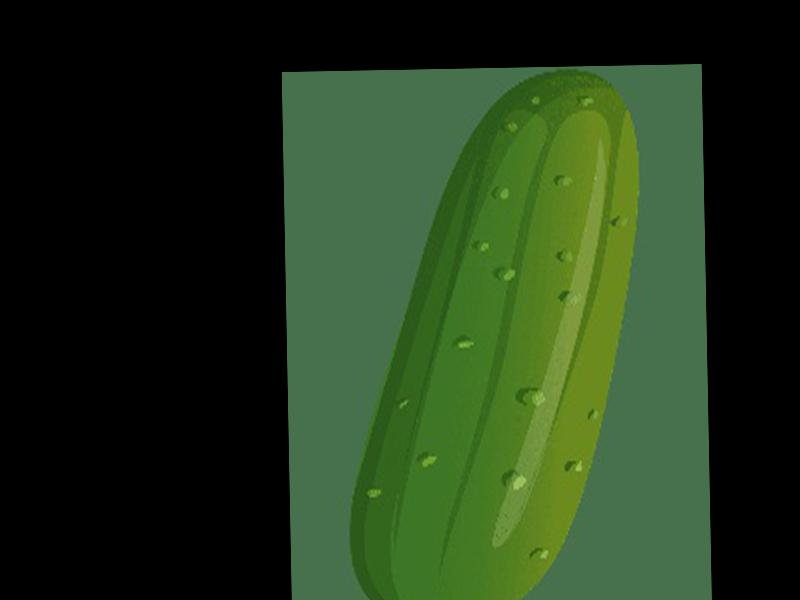Cucumber: (340, 69, 647, 600)
